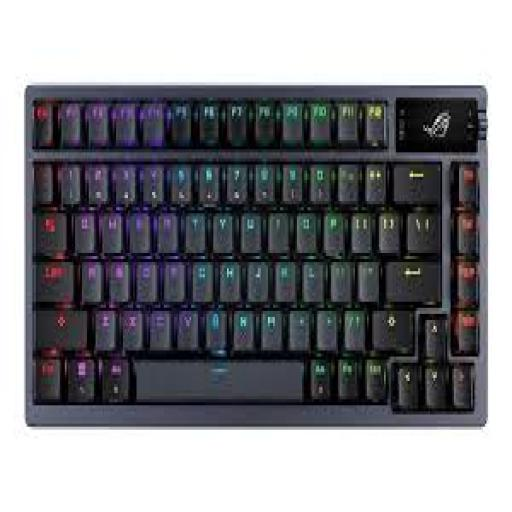KEYBOARD-2: (24, 88, 486, 424)
